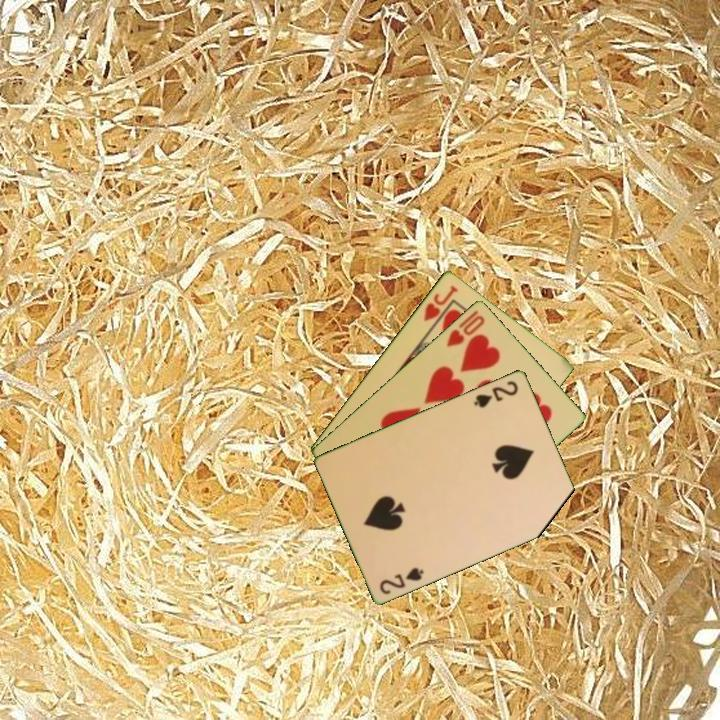10h: (443, 306, 488, 349)
2s: (470, 377, 521, 411), (376, 563, 427, 597)
Jh: (420, 281, 461, 332)
